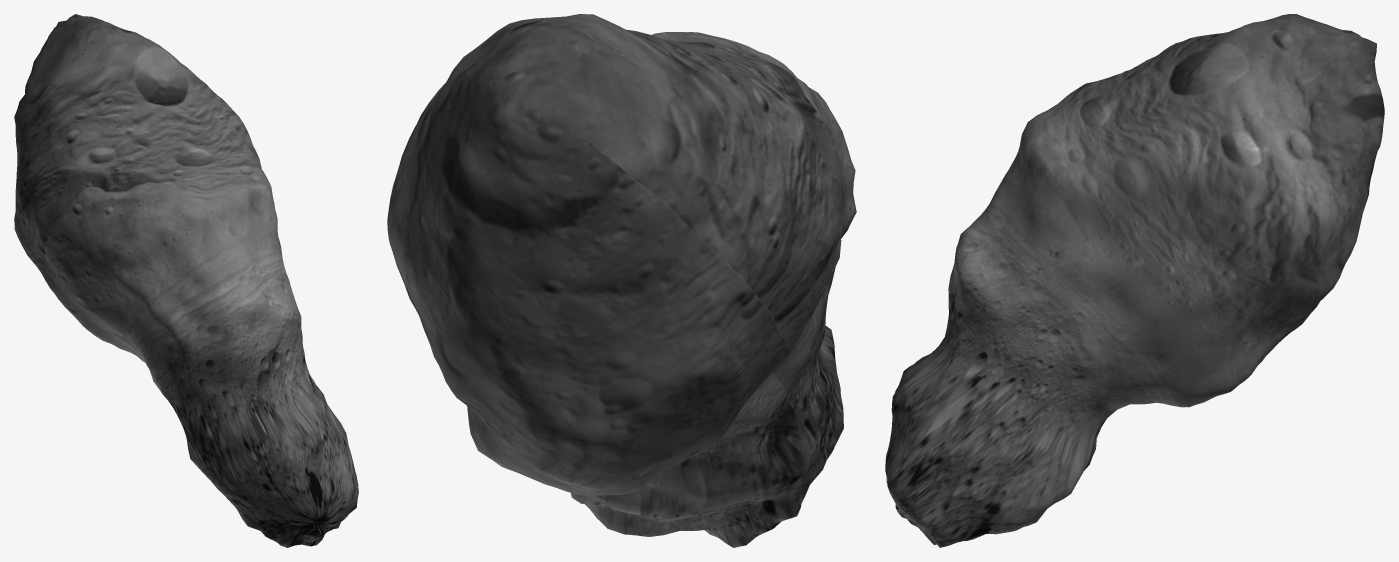
The model's file is asteroid.fbx.
The picture shows the model from 3 angles, left to right: view 1: azimuth 30°, elevation 25°; view 2: azimuth 150°, elevation 25°; view 3: azimuth 270°, elevation 25°; orthographic projection. The views are drawn at different scales.
Parts seen in each view (by area): view 1: toutatis; view 2: toutatis; view 3: toutatis.
Part boxes in pixels (x1,y1,x2,y2): toutatis: (14,14,358,547); toutatis: (387,14,856,547); toutatis: (885,14,1384,547).
Size of the model in its own units: 1.98 by 3.66 by 3.37.
